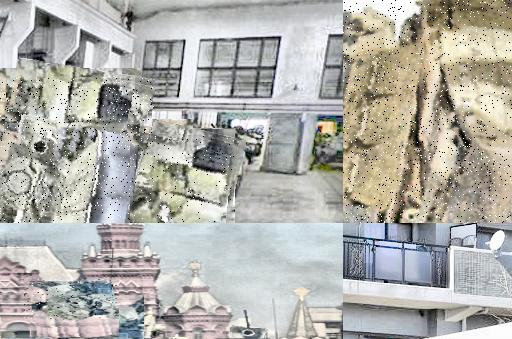tanks: (344, 1, 512, 224), (1, 79, 155, 224), (132, 137, 237, 224), (25, 281, 119, 320), (234, 326, 268, 339), (130, 126, 141, 137), (112, 333, 119, 338), (177, 338, 178, 339)
